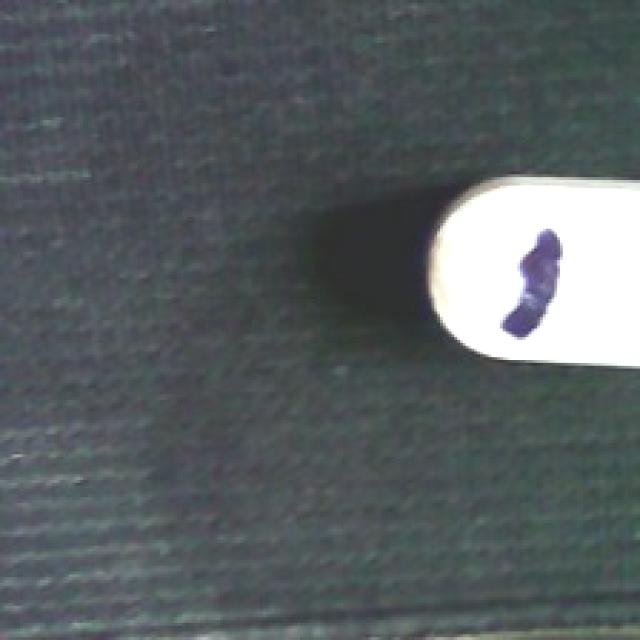defected: (417, 174, 637, 374)
